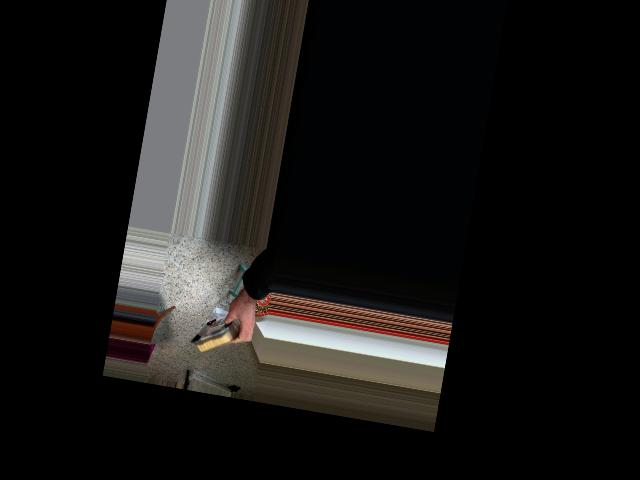cheese: (179, 298, 263, 370)
